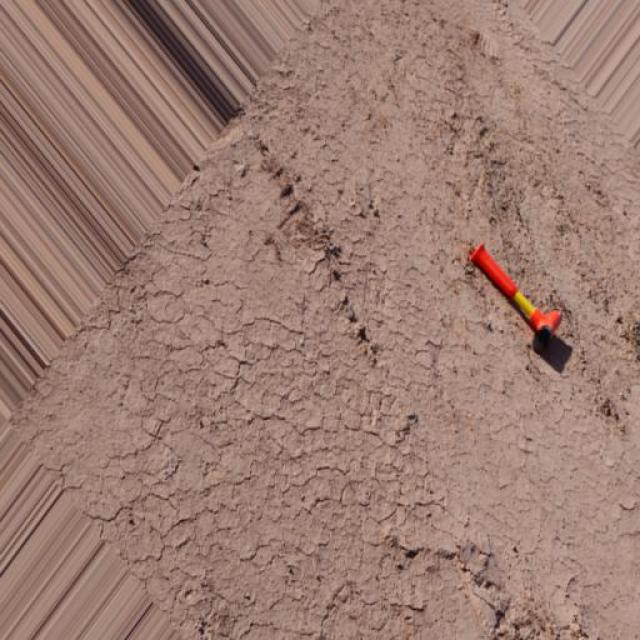mallet: (467, 241, 562, 351)
